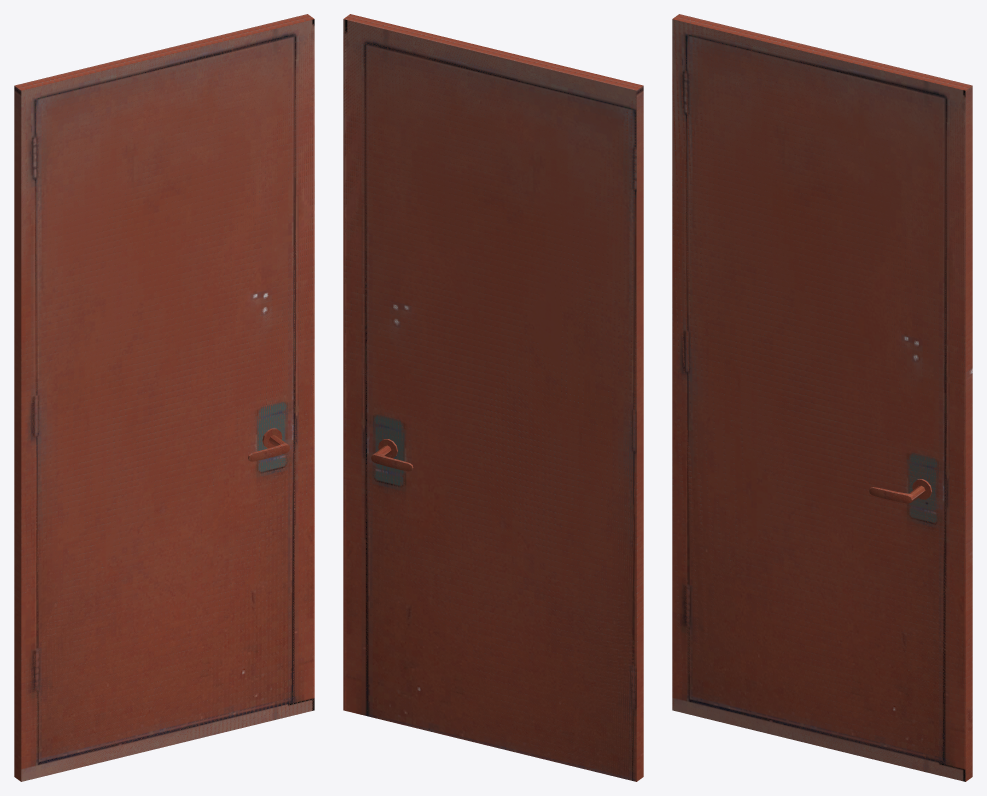
The model's file is Door.fbx.
3 views of the same model, side by side, from view 1: azimuth 30°, elevation 25°; view 2: azimuth 150°, elevation 25°; view 3: azimuth 330°, elevation 25° (orthographic).
Visible parts, largest first — view 1: Group1; view 2: Group1; view 3: Group1.
Boxes of the visible parts, x1,y1,x2,y2 form: Group1: (14,14,314,781); Group1: (343,14,643,781); Group1: (672,14,972,781).
Bounding box in the file's own units: 4.03 × 9.07 × 0.9007.
